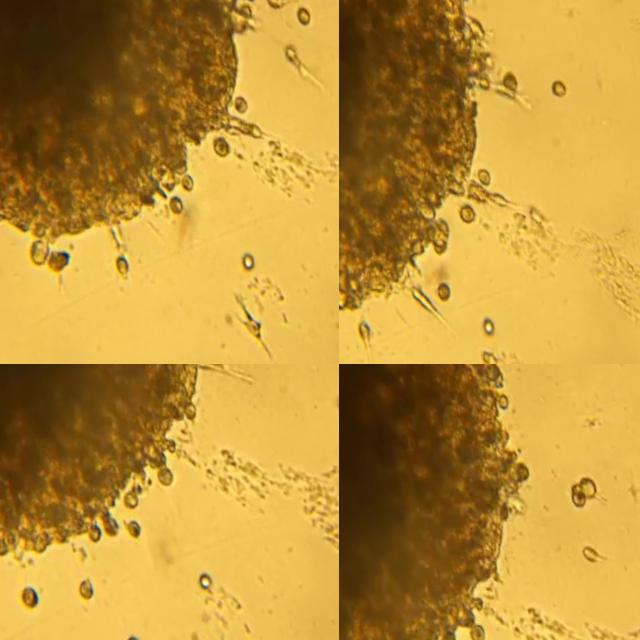cell: (229, 304, 264, 355), (280, 44, 317, 90), (403, 284, 438, 319), (460, 179, 507, 205), (40, 249, 66, 271), (575, 543, 603, 562), (350, 321, 364, 357), (15, 584, 32, 607), (160, 193, 178, 214), (452, 204, 473, 222), (568, 477, 591, 493), (290, 3, 306, 24), (207, 134, 223, 155), (108, 253, 123, 275), (428, 280, 443, 302), (545, 77, 564, 94), (228, 93, 244, 111), (498, 72, 514, 90), (474, 349, 492, 364), (72, 578, 86, 597), (567, 487, 581, 504), (475, 315, 488, 332), (233, 251, 247, 266), (122, 520, 135, 536), (174, 175, 188, 189), (472, 168, 485, 183), (193, 571, 204, 587), (263, 0, 282, 8), (331, 394, 339, 410)
tumor_mass: (339, 364, 525, 640), (339, 0, 491, 310)
